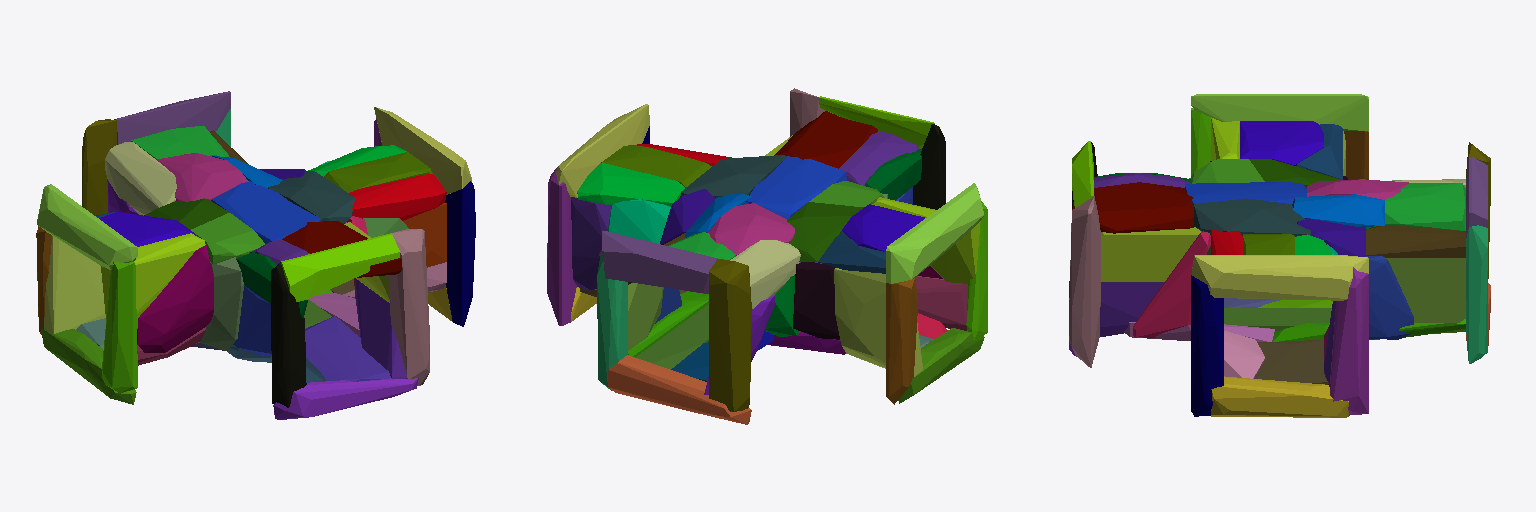
The model's file is zisb_cave_cross_1_GEOM.obj.
3 views of the same model, side by side, from view 1: azimuth 30°, elevation 25°; view 2: azimuth 150°, elevation 25°; view 3: azimuth 270°, elevation 25° (orthographic).
Parts seen in each view (by area): view 1: UCX_defaultobject_defaultobject_065, UCX_defaultobject_defaultobject_066, UCX_defaultobject_defaultobject_015, UCX_defaultobject_defaultobject_001, UCX_defaultobject_defaultobject_056, UCX_defaultobject_defaultobject_047, UCX_defaultobject_defaultobject_004, UCX_defaultobject_defaultobject_061, UCX_defaultobject_defaultobject_028, UCX_defaultobject_defaultobject_049, UCX_defaultobject_defaultobject_007, UCX_defaultobject_defaultobject_048 (+28 smaller); view 2: UCX_defaultobject_defaultobject_045, UCX_defaultobject_defaultobject_040, UCX_defaultobject_defaultobject_015, UCX_defaultobject_defaultobject_056, UCX_defaultobject_defaultobject_042, UCX_defaultobject_defaultobject_048, UCX_defaultobject_defaultobject_053, UCX_defaultobject_defaultobject_030, UCX_defaultobject_defaultobject_043, UCX_defaultobject_defaultobject_063, UCX_defaultobject_defaultobject_008, UCX_defaultobject_defaultobject_005 (+28 smaller); view 3: UCX_defaultobject_defaultobject_063, UCX_defaultobject_defaultobject_056, UCX_defaultobject_defaultobject_066, UCX_defaultobject_defaultobject_060, UCX_defaultobject_defaultobject_030, UCX_defaultobject_defaultobject_043, UCX_defaultobject_defaultobject_032, UCX_defaultobject_defaultobject_026, UCX_defaultobject_defaultobject_061, UCX_defaultobject_defaultobject_036, UCX_defaultobject_defaultobject_037, UCX_defaultobject_defaultobject_024 (+26 smaller).
Boxes of the visible parts, x1=… form: UCX_defaultobject_defaultobject_065: x1=137, y1=245, x2=213, y2=352; UCX_defaultobject_defaultobject_066: x1=388, y1=229, x2=429, y2=385; UCX_defaultobject_defaultobject_015: x1=44, y1=236, x2=105, y2=334; UCX_defaultobject_defaultobject_001: x1=281, y1=233, x2=399, y2=301; UCX_defaultobject_defaultobject_056: x1=37, y1=184, x2=137, y2=269; UCX_defaultobject_defaultobject_047: x1=102, y1=262, x2=137, y2=393; UCX_defaultobject_defaultobject_004: x1=271, y1=262, x2=306, y2=407; UCX_defaultobject_defaultobject_061: x1=445, y1=181, x2=475, y2=326; UCX_defaultobject_defaultobject_028: x1=105, y1=142, x2=176, y2=215; UCX_defaultobject_defaultobject_049: x1=305, y1=316, x2=390, y2=381; UCX_defaultobject_defaultobject_007: x1=273, y1=378, x2=418, y2=419; UCX_defaultobject_defaultobject_048: x1=211, y1=181, x2=320, y2=243; UCX_defaultobject_defaultobject_045: x1=709, y1=259, x2=751, y2=411; UCX_defaultobject_defaultobject_040: x1=602, y1=231, x2=717, y2=293; UCX_defaultobject_defaultobject_015: x1=834, y1=268, x2=922, y2=376; UCX_defaultobject_defaultobject_056: x1=886, y1=183, x2=983, y2=283; UCX_defaultobject_defaultobject_042: x1=608, y1=355, x2=751, y2=424; UCX_defaultobject_defaultobject_048: x1=746, y1=156, x2=846, y2=219; UCX_defaultobject_defaultobject_053: x1=886, y1=278, x2=917, y2=404; UCX_defaultobject_defaultobject_030: x1=547, y1=167, x2=576, y2=325; UCX_defaultobject_defaultobject_043: x1=774, y1=111, x2=877, y2=168; UCX_defaultobject_defaultobject_063: x1=556, y1=104, x2=649, y2=197; UCX_defaultobject_defaultobject_008: x1=577, y1=163, x2=684, y2=206; UCX_defaultobject_defaultobject_005: x1=793, y1=262, x2=839, y2=339; UCX_defaultobject_defaultobject_063: x1=1191, y1=255, x2=1368, y2=300; UCX_defaultobject_defaultobject_056: x1=1191, y1=94, x2=1368, y2=131; UCX_defaultobject_defaultobject_066: x1=1069, y1=196, x2=1100, y2=367; UCX_defaultobject_defaultobject_060: x1=1211, y1=376, x2=1348, y2=417; UCX_defaultobject_defaultobject_030: x1=1330, y1=267, x2=1368, y2=415; UCX_defaultobject_defaultobject_043: x1=1072, y1=182, x2=1193, y2=233; UCX_defaultobject_defaultobject_032: x1=1101, y1=227, x2=1200, y2=281; UCX_defaultobject_defaultobject_026: x1=1386, y1=258, x2=1465, y2=322; UCX_defaultobject_defaultobject_061: x1=1191, y1=275, x2=1223, y2=416; UCX_defaultobject_defaultobject_036: x1=1385, y1=183, x2=1465, y2=230; UCX_defaultobject_defaultobject_037: x1=1194, y1=198, x2=1310, y2=236; UCX_defaultobject_defaultobject_024: x1=1240, y1=121, x2=1323, y2=165.
Bounding box in the file's own units: 9.96 × 4.21 × 10.04.